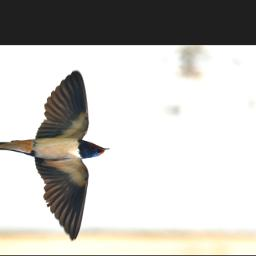Swallow: (0, 65, 110, 243)
